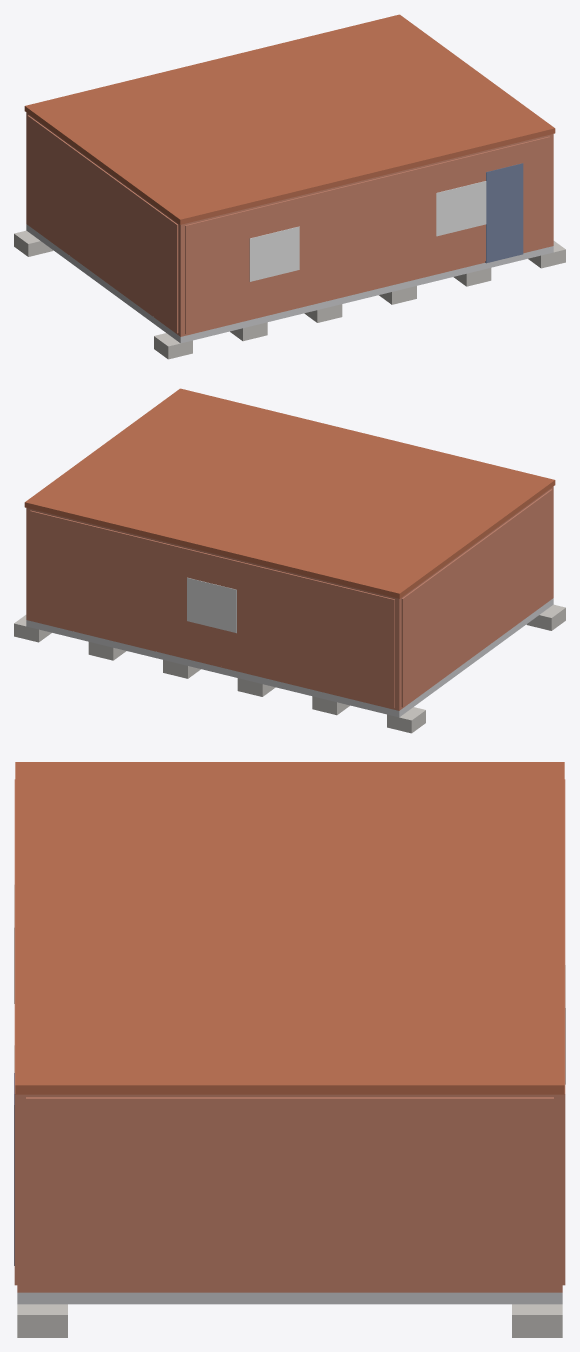
Rendered from Studio-30-Base-BrickRed-LOD0.glb.
The picture shows the model from 3 angles, top to bottom: view 1: azimuth 30°, elevation 25°; view 2: azimuth 150°, elevation 25°; view 3: azimuth 270°, elevation 25°; orthographic projection. The views are drawn at different scales.
Visible parts, largest first — view 1: RoofMain, ExteriorPanelsStandard, WindowsStandard, BaseFrame, FoundationBlocks, ExteriorShell, EntryDoor; view 2: RoofMain, ExteriorPanelsStandard, BaseFrame, FoundationBlocks, ExteriorShell, WindowsStandard; view 3: RoofMain, ExteriorPanelsStandard, ExteriorShell, BaseFrame, FoundationBlocks.
Boxes of the visible parts, x1,y1,x2,y2 form: RoofMain: (24, 14, 555, 224); ExteriorPanelsStandard: (27, 115, 550, 334); WindowsStandard: (249, 181, 486, 281); BaseFrame: (26, 224, 553, 343); FoundationBlocks: (14, 230, 565, 359); ExteriorShell: (26, 112, 553, 336); EntryDoor: (485, 163, 523, 263); RoofMain: (24, 388, 555, 598); ExteriorPanelsStandard: (30, 489, 552, 708); BaseFrame: (26, 598, 553, 717); FoundationBlocks: (14, 604, 565, 733); ExteriorShell: (26, 486, 553, 710); WindowsStandard: (187, 577, 236, 633); RoofMain: (15, 762, 564, 1094); ExteriorPanelsStandard: (14, 779, 565, 1289); ExteriorShell: (17, 1094, 562, 1292); BaseFrame: (17, 1292, 562, 1304); FoundationBlocks: (17, 1304, 562, 1337).
Size of the model in its own units: 9.6 by 3.17 by 6.53.
